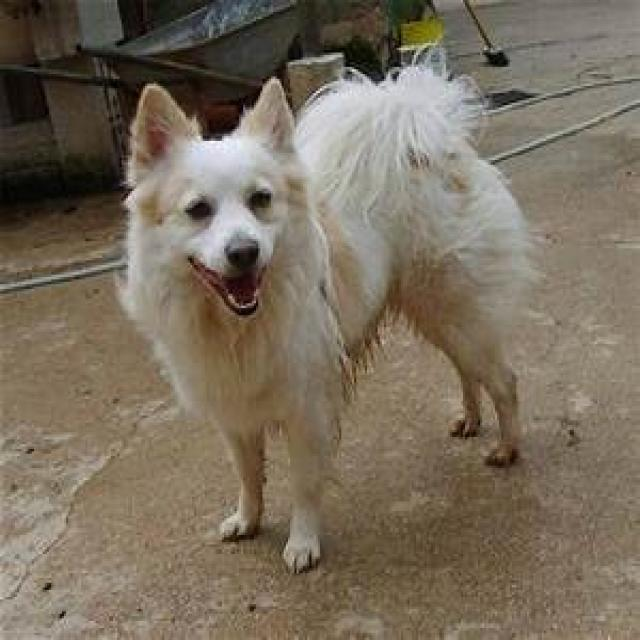animal: (84, 29, 549, 598)
